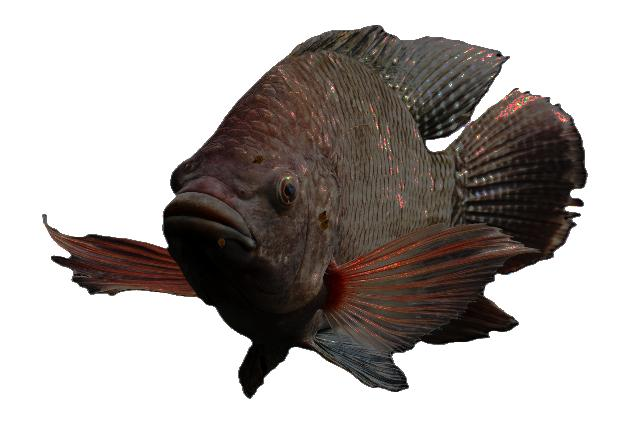Parasitic Disease: (48, 26, 585, 396)
